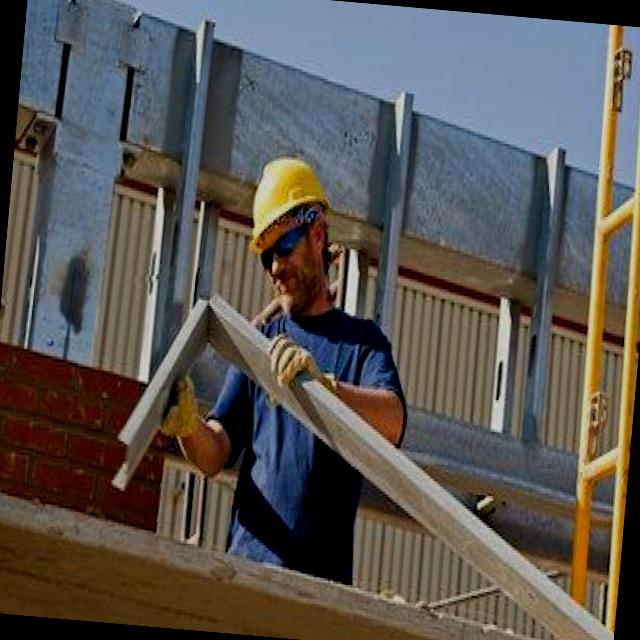helmet: (242, 148, 336, 254)
no-vest: (210, 310, 382, 571)
